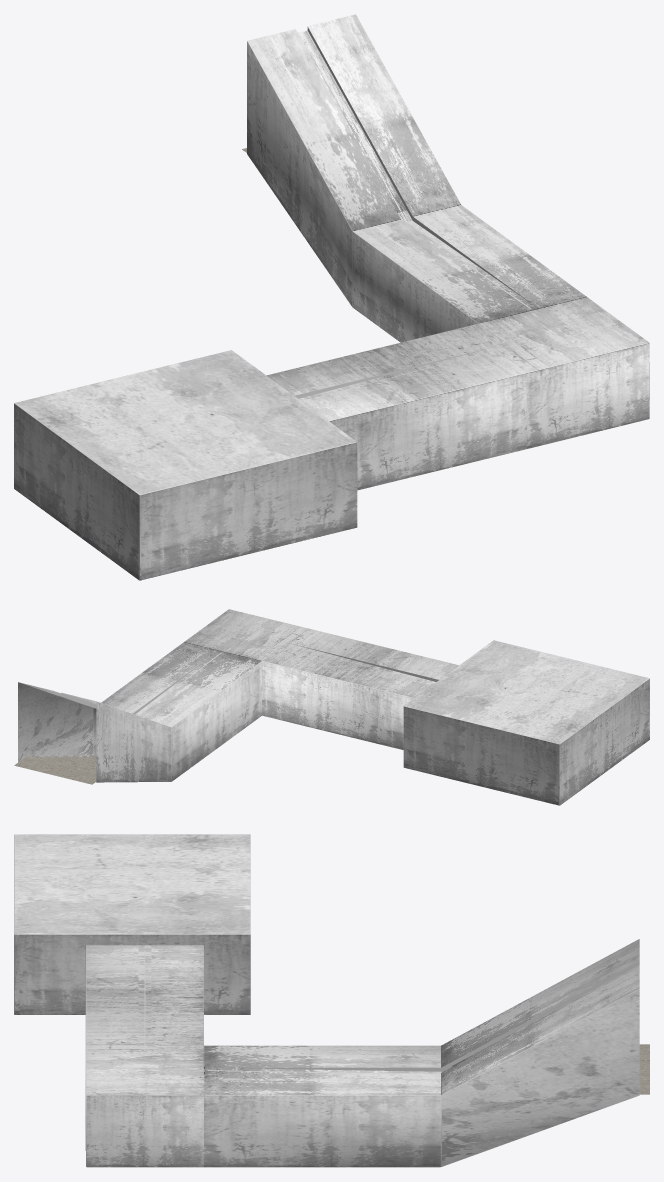
File: Locker.fbx
The picture shows the model from 3 angles, top to bottom: view 1: azimuth 30°, elevation 25°; view 2: azimuth 150°, elevation 25°; view 3: azimuth 270°, elevation 25°; orthographic projection. The views are drawn at different scales.
Visible parts, largest first — view 1: Cube; view 2: Cube; view 3: Cube.
Part boxes in pixels (bbox=[...]): Cube: bbox=[14, 14, 649, 580]; Cube: bbox=[14, 609, 649, 805]; Cube: bbox=[14, 834, 649, 1167].
Bounding box in the file's own units: 1510 × 499 × 1610.
